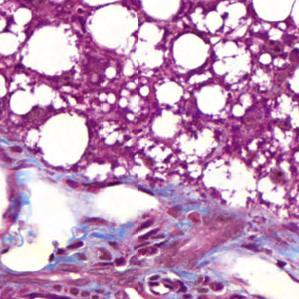steatosis: (37, 116, 97, 172), (172, 33, 211, 76)
